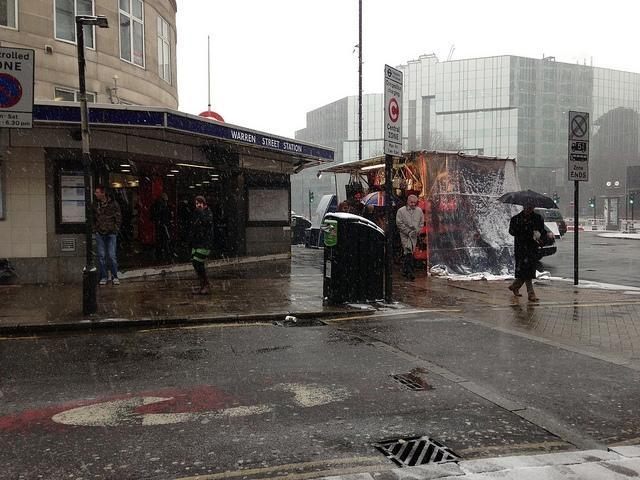car: (534, 208, 568, 238), (538, 224, 558, 260)
